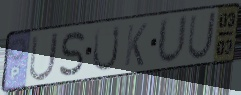K: (122, 22, 149, 69)
S: (57, 30, 87, 79)
U: (156, 12, 190, 67), (27, 30, 62, 83), (185, 10, 218, 61), (91, 23, 122, 74)
